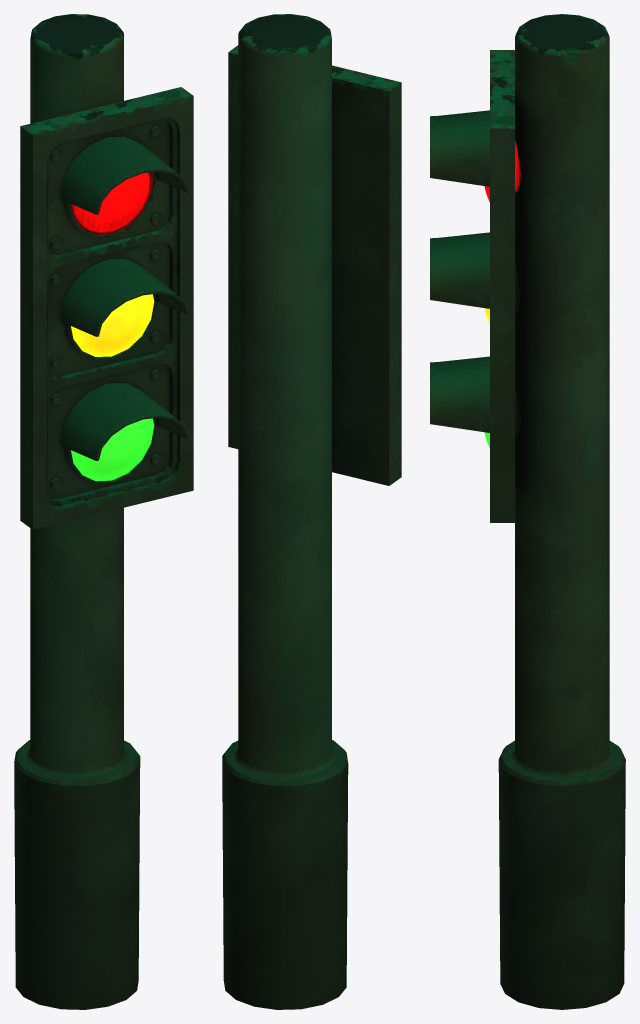
File: Traffic_Light.gltf
The picture shows the model from 3 angles, left to right: view 1: azimuth 30°, elevation 25°; view 2: azimuth 150°, elevation 25°; view 3: azimuth 270°, elevation 25°; orthographic projection.
Visible parts, largest first — view 1: traffic light; view 2: traffic light; view 3: traffic light.
Boxes of the visible parts, x1,y1,x2,y2 form: traffic light: (14,14,193,1009); traffic light: (222,14,401,1009); traffic light: (430,14,625,1009).
Bounding box in the file's own units: 0.8035 × 4.54 × 0.8463.
1 material, 1 textured.
